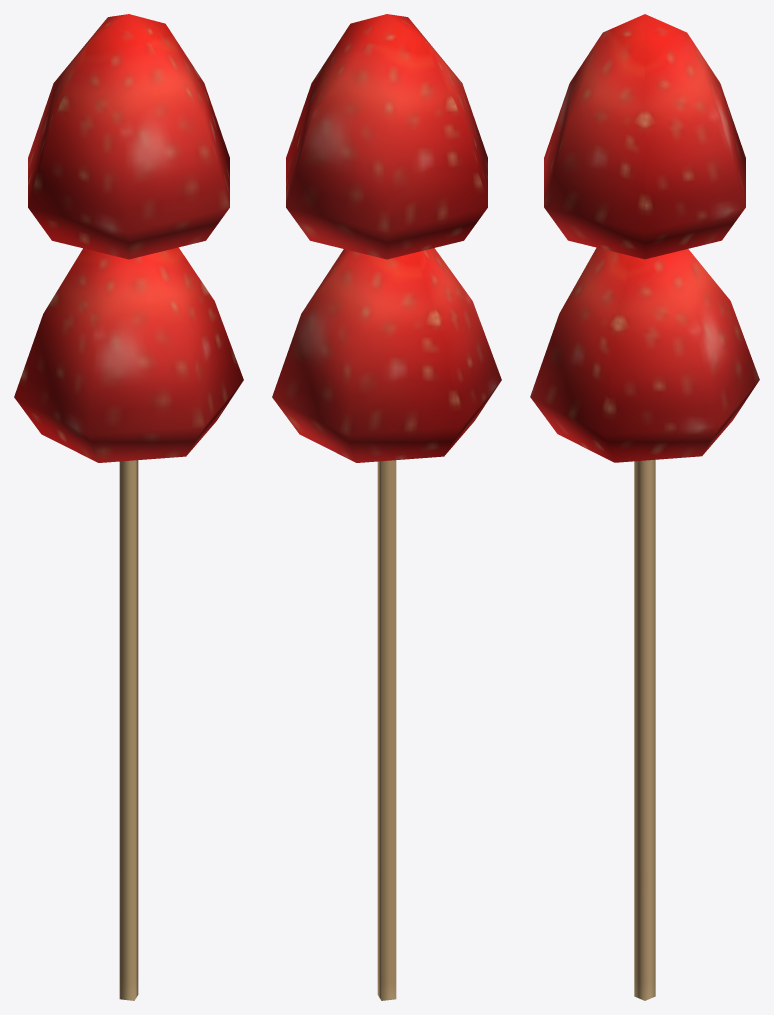
Rendered from jsf_Strawberry_02.fbx.
3 views of the same model, side by side, from view 1: azimuth 30°, elevation 25°; view 2: azimuth 150°, elevation 25°; view 3: azimuth 270°, elevation 25° (orthographic).
Visible parts, largest first — view 1: jsf_Strawberry_02; view 2: jsf_Strawberry_02; view 3: jsf_Strawberry_02.
Boxes of the visible parts, bbox=[...] form: jsf_Strawberry_02: bbox=[14, 14, 243, 1000]; jsf_Strawberry_02: bbox=[272, 14, 501, 1000]; jsf_Strawberry_02: bbox=[530, 14, 759, 1000].
Bounding box in the file's own units: 2.74 × 12.75 × 2.7.
